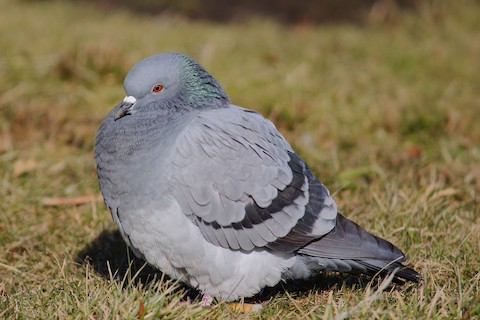pigeon: (89, 39, 433, 315)
